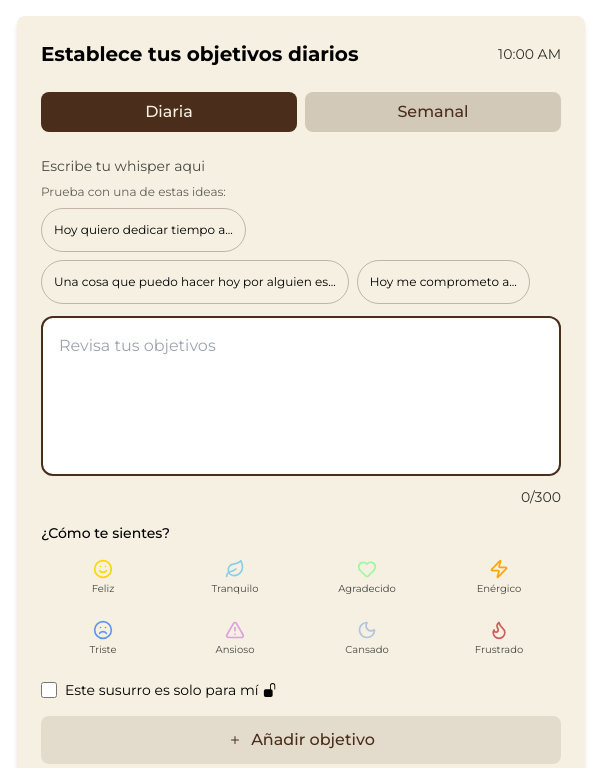
Test: WhisperForm › tab switching › switches back to Diaria mode when clicking Diaria tab
Click the button "Semanal" at (433, 112), box [305,92,561,132]
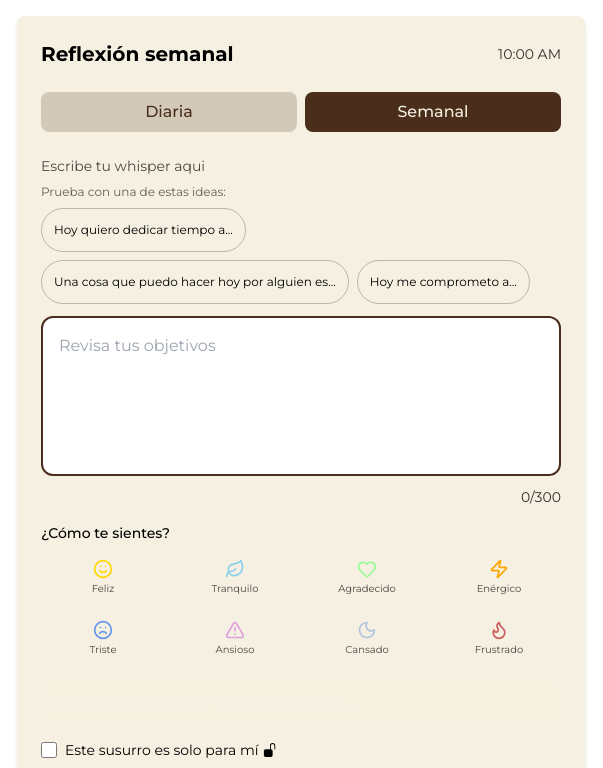
Click the button "Diaria" at (169, 112), box [41,92,297,132]
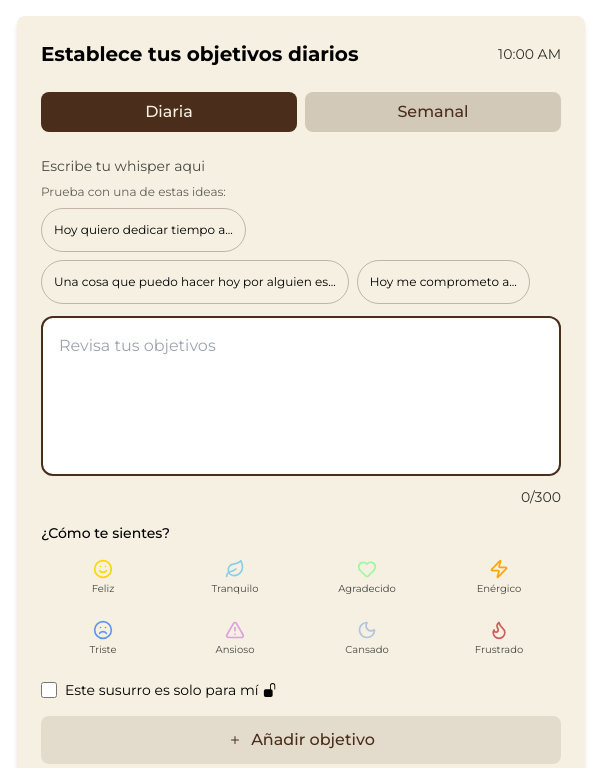
expect the heading "Establece tus objetivos diarios" is shown: met, box [41,40,358,68]
